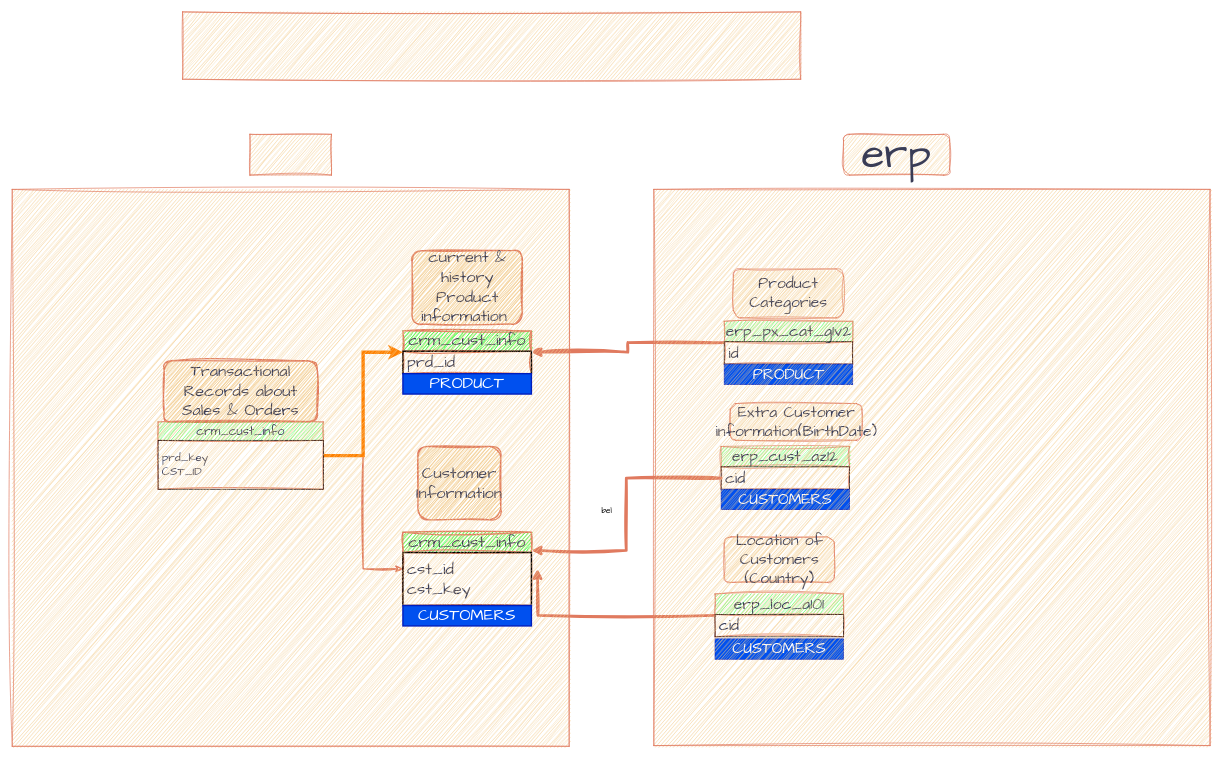
Some shapes in this 1222 by 758 pixel diagram are drawn without their labels. Here are the shapes that lost their labels. From the top down, the box of each, then its label:
(182, 11, 801, 79): Integration Model
(249, 134, 332, 175): CRM
